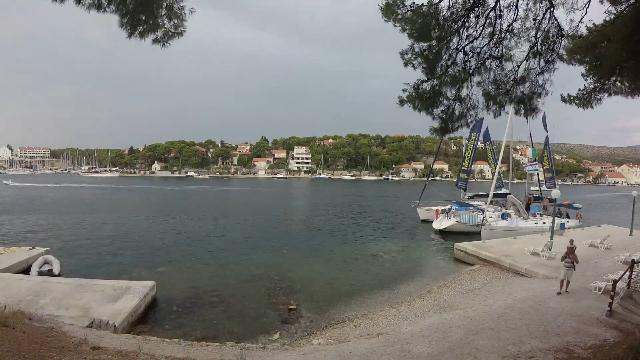speedboat: (192, 170, 214, 182)
